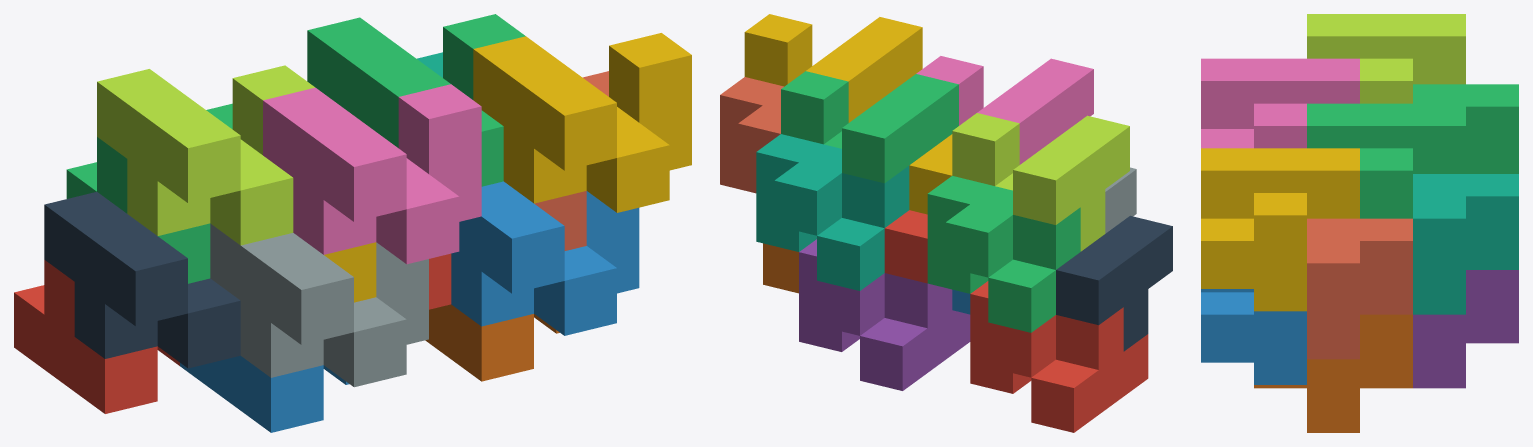
The model's file is tiling.obj.
3 renders of one model, left to right at view 1: azimuth 30°, elevation 25°; view 2: azimuth 150°, elevation 25°; view 3: azimuth 270°, elevation 25°, orthographic. The views are drawn at different scales.
Visible parts, largest first — view 1: copy_2_domain_4, copy_2_domain_8, copy_2_domain_3, copy_2_domain_2, copy_2_domain_1, copy_2_domain_6, copy_2_domain_7, copy_1_domain_1, copy_1_domain_2, copy_1_domain_6, copy_1_domain_3, copy_1_domain_8 (+2 smaller); view 2: copy_1_domain_3, copy_1_domain_7, copy_1_domain_1, copy_1_domain_5, copy_2_domain_3, copy_2_domain_7, copy_2_domain_8, copy_2_domain_1, copy_2_domain_4, copy_1_domain_8, copy_2_domain_5, copy_1_domain_4 (+2 smaller); view 3: copy_2_domain_8, copy_1_domain_8, copy_1_domain_7, copy_2_domain_7, copy_2_domain_4, copy_2_domain_3, copy_1_domain_6, copy_1_domain_5, copy_2_domain_6, copy_1_domain_3.
Boxes of the visible parts, box(x1,y1,x2,y2) form: copy_2_domain_4: box(263, 84, 481, 264); copy_2_domain_8: box(473, 33, 691, 212); copy_2_domain_3: box(97, 65, 314, 245); copy_2_domain_2: box(210, 223, 428, 387); copy_2_domain_1: box(44, 192, 240, 368); copy_2_domain_6: box(451, 181, 639, 335); copy_2_domain_7: box(307, 14, 525, 186); copy_1_domain_1: box(14, 260, 179, 413); copy_1_domain_2: box(180, 355, 349, 432); copy_1_domain_6: box(425, 304, 559, 381); copy_1_domain_3: box(66, 103, 232, 283); copy_1_domain_8: box(534, 71, 608, 250); copy_1_domain_3: box(927, 176, 1080, 332); copy_1_domain_7: box(756, 134, 909, 290); copy_1_domain_1: box(970, 281, 1148, 432); copy_1_domain_5: box(799, 239, 970, 390); copy_2_domain_3: box(952, 113, 1129, 251); copy_2_domain_7: box(781, 71, 958, 183); copy_2_domain_8: box(744, 14, 922, 122); copy_2_domain_1: box(1056, 215, 1172, 351); copy_2_domain_4: box(916, 56, 1093, 164); copy_1_domain_8: box(720, 77, 783, 193); copy_2_domain_5: box(884, 210, 927, 283); copy_1_domain_4: box(909, 134, 952, 214); copy_2_domain_8: box(1201, 148, 1359, 311); copy_1_domain_8: box(1307, 218, 1412, 359); copy_1_domain_7: box(1413, 174, 1518, 314); copy_2_domain_7: box(1307, 103, 1465, 218); copy_2_domain_4: box(1201, 58, 1359, 148); copy_2_domain_3: box(1307, 14, 1465, 103); copy_1_domain_6: box(1254, 314, 1412, 432); copy_1_domain_5: box(1413, 270, 1518, 388); copy_2_domain_6: box(1201, 289, 1306, 384); copy_1_domain_3: box(1413, 84, 1518, 173).
Bounding box in the file's own units: 10 × 5 × 6.
